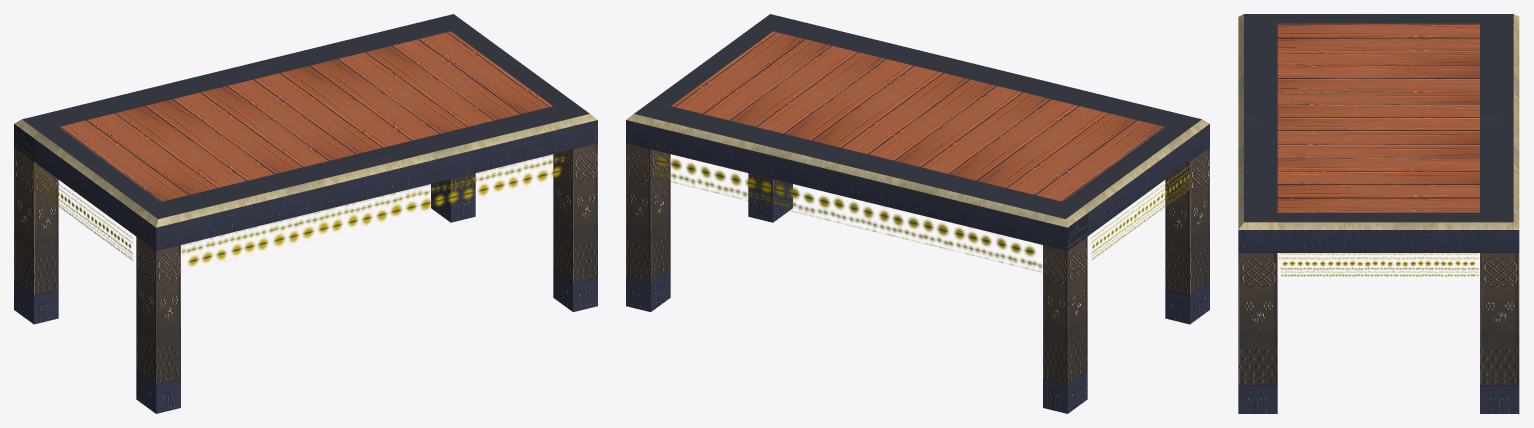
Rendered from table02.glb.
The picture shows the model from 3 angles, left to right: view 1: azimuth 30°, elevation 25°; view 2: azimuth 150°, elevation 25°; view 3: azimuth 270°, elevation 25°; orthographic projection.
Visible parts, largest first — view 1: Table02; view 2: Table02; view 3: Table02.
Boxes of the visible parts, left/top/right/bottom form: Table02: left=14, top=14, right=597, bottom=413; Table02: left=626, top=14, right=1209, bottom=413; Table02: left=1238, top=14, right=1519, bottom=413.
Size of the model in its own units: 1.91 by 0.7883 by 1.06.
Materials: 5 (5 with a texture image).
